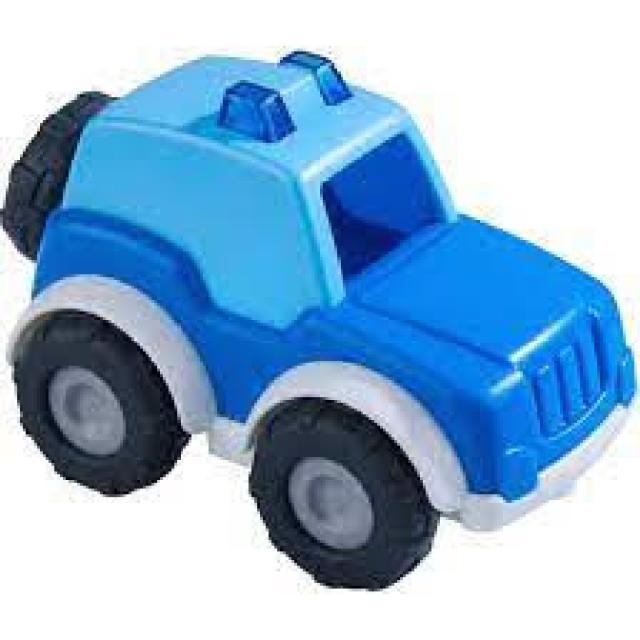Car: (0, 46, 637, 591)
